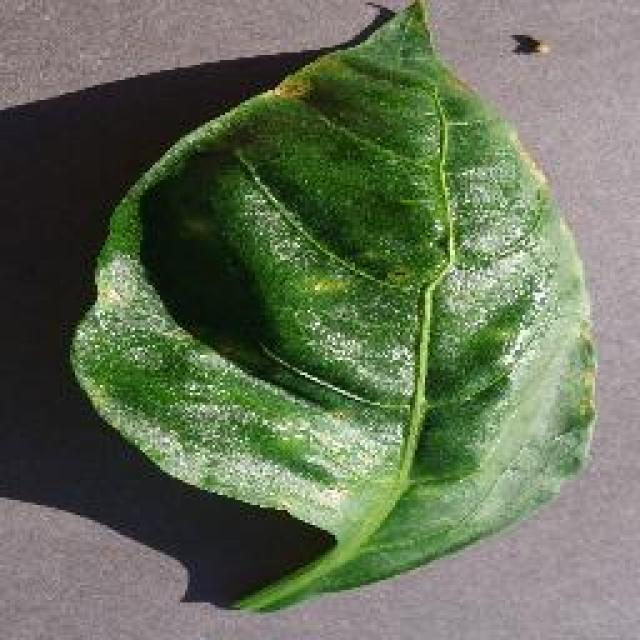Chilli_Bacterial_Spot: (65, 0, 603, 615), (302, 270, 352, 302), (360, 0, 428, 18)
